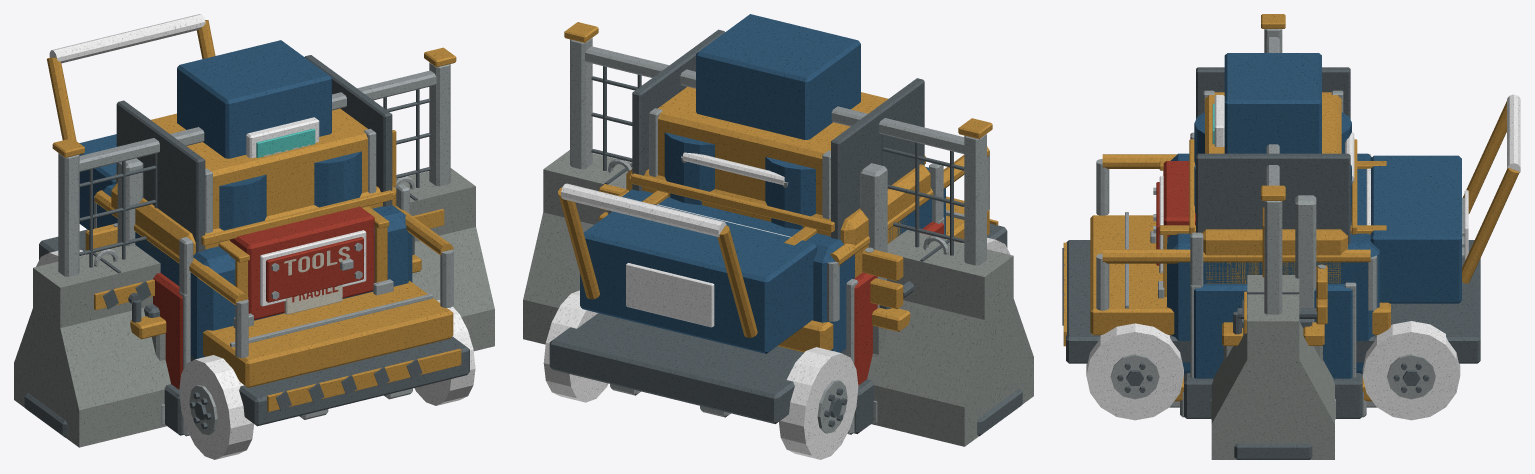
Rendered from Rainline_StreetPopulation_001.glb.
3 views of the same model, side by side, from view 1: azimuth 30°, elevation 25°; view 2: azimuth 150°, elevation 25°; view 3: azimuth 270°, elevation 25° (orthographic). The views are drawn at different scales.
Visible parts, largest first — view 1: freight_service_cart__RainlineStreet_painted, cast_barrier__RainlineStreet_mineral, bundled_pressure_tanks__RainlineStreet_painted, security_fence__RainlineStreet_painted, charging_pedestal__RainlineStreet_painted, stacked_industrial_cases__RainlineStreet_painted, freight_service_cart__RainlineStreet_rubber, covered_machine_pallet__RainlineStreet_painted, generator_skid__RainlineStreet_painted, cast_barrier__RainlineStreet_painted, public_bench__RainlineStreet_painted, hydraulic_manifold__RainlineStreet_painted (+2 smaller); view 2: freight_service_cart__RainlineStreet_painted, cast_barrier__RainlineStreet_mineral, bundled_pressure_tanks__RainlineStreet_painted, charging_pedestal__RainlineStreet_painted, freight_service_cart__RainlineStreet_rubber, security_fence__RainlineStreet_painted, stacked_industrial_cases__RainlineStreet_painted, covered_machine_pallet__RainlineStreet_painted, generator_skid__RainlineStreet_painted, public_bench__RainlineStreet_painted, hydraulic_manifold__RainlineStreet_painted, repair_trolley__RainlineStreet_rubber (+1 smaller); view 3: freight_service_cart__RainlineStreet_painted, cast_barrier__RainlineStreet_mineral, bundled_pressure_tanks__RainlineStreet_painted, freight_service_cart__RainlineStreet_rubber, charging_pedestal__RainlineStreet_painted, stacked_industrial_cases__RainlineStreet_painted, covered_machine_pallet__RainlineStreet_painted, generator_skid__RainlineStreet_painted, security_fence__RainlineStreet_painted, hydraulic_manifold__RainlineStreet_painted, public_bench__RainlineStreet_painted, charging_pedestal__RainlineStreet_rubber.
Boxes of the visible parts, x1,y1,x2,y2 form: freight_service_cart__RainlineStreet_painted: (39,20,469,435); cast_barrier__RainlineStreet_mineral: (14,168,494,447); bundled_pressure_tanks__RainlineStreet_painted: (115,55,393,252); security_fence__RainlineStreet_painted: (24,47,456,437); charging_pedestal__RainlineStreet_painted: (177,40,331,158); stacked_industrial_cases__RainlineStreet_painted: (151,108,376,436); freight_service_cart__RainlineStreet_rubber: (36,14,475,459); covered_machine_pallet__RainlineStreet_painted: (97,184,412,419); generator_skid__RainlineStreet_painted: (111,183,409,435); cast_barrier__RainlineStreet_painted: (93,176,444,310); public_bench__RainlineStreet_painted: (85,223,421,339); hydraulic_manifold__RainlineStreet_painted: (117,158,164,425); freight_service_cart__RainlineStreet_painted: (549,146,1007,433); cast_barrier__RainlineStreet_mineral: (523,150,1033,446); bundled_pressure_tanks__RainlineStreet_painted: (631,29,925,239); charging_pedestal__RainlineStreet_painted: (696,14,860,139); freight_service_cart__RainlineStreet_rubber: (543,183,1010,459); security_fence__RainlineStreet_painted: (564,22,1022,436); stacked_industrial_cases__RainlineStreet_painted: (649,86,944,434); covered_machine_pallet__RainlineStreet_painted: (610,167,945,417); generator_skid__RainlineStreet_painted: (626,163,943,433); public_bench__RainlineStreet_painted: (599,184,914,331); hydraulic_manifold__RainlineStreet_painted: (860,163,891,423); repair_trolley__RainlineStreet_rubber: (682,152,784,185); freight_service_cart__RainlineStreet_painted: (1062,101,1519,399); cast_barrier__RainlineStreet_mineral: (1211,275,1334,459); bundled_pressure_tanks__RainlineStreet_painted: (1189,67,1357,244); freight_service_cart__RainlineStreet_rubber: (1086,94,1520,420); charging_pedestal__RainlineStreet_painted: (1224,53,1321,153); stacked_industrial_cases__RainlineStreet_painted: (1180,90,1366,417); covered_machine_pallet__RainlineStreet_painted: (1158,153,1386,407); generator_skid__RainlineStreet_painted: (1184,132,1362,418); security_fence__RainlineStreet_painted: (1234,14,1312,459); hydraulic_manifold__RainlineStreet_painted: (1210,195,1335,419); public_bench__RainlineStreet_painted: (1222,264,1327,345); charging_pedestal__RainlineStreet_rubber: (1214,95,1224,146).
Size of the model in its own units: 2.84 by 1.95 by 2.82.
4 materials, 4 textured.
